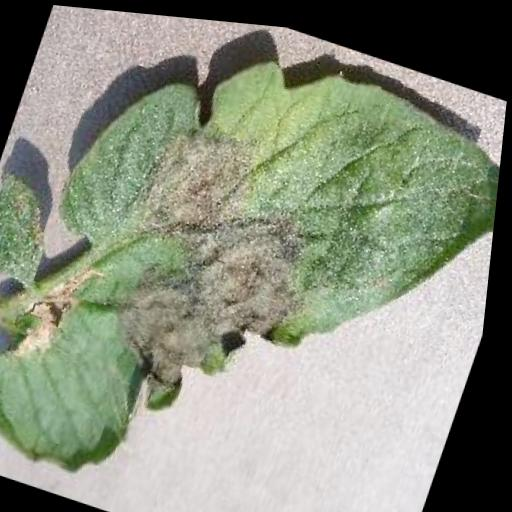Late Blight: (0, 1, 512, 512)
